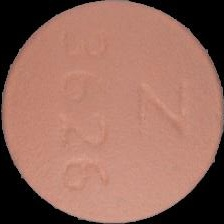68645-020: (0, 0, 224, 224)
